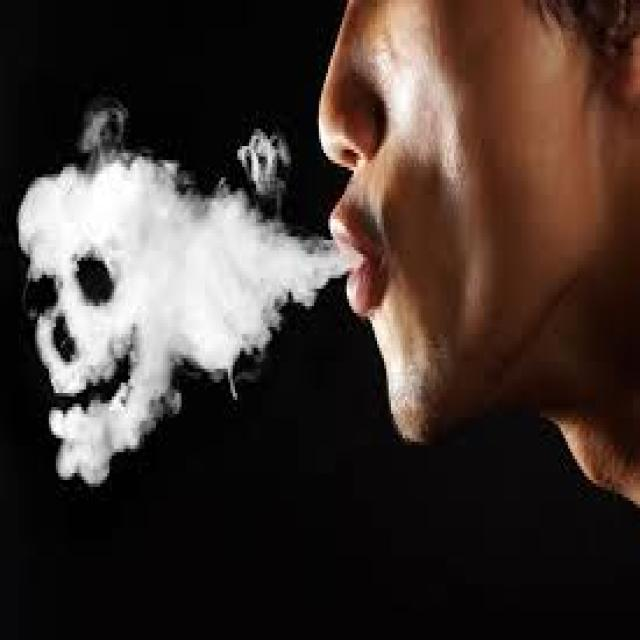Smoke: (26, 123, 323, 460)
